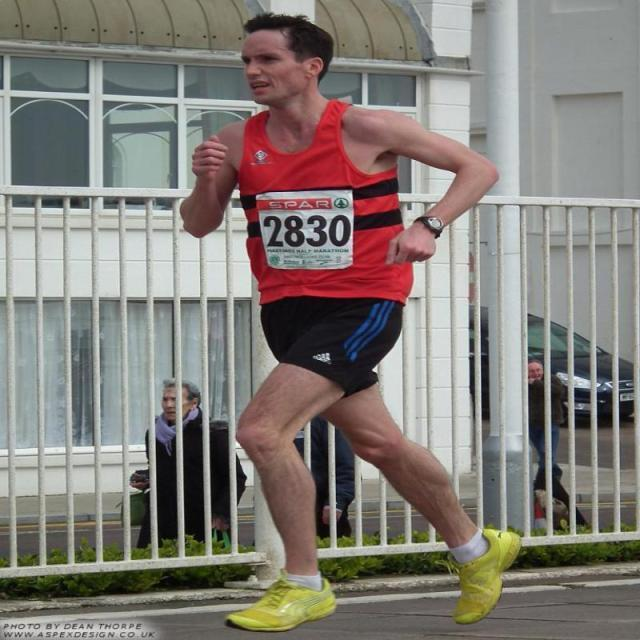dorsal: (244, 188, 365, 272)
